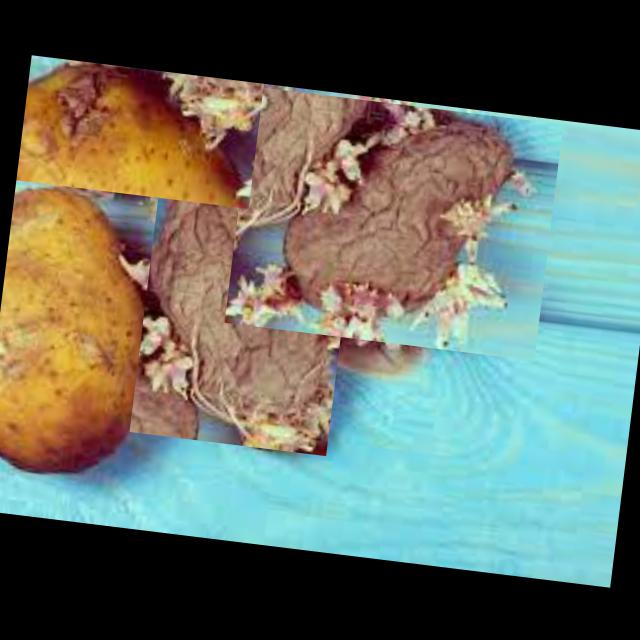Potato: (0, 181, 169, 484), (14, 54, 262, 208)
Sprouted potato: (223, 85, 562, 359), (128, 153, 359, 454)
